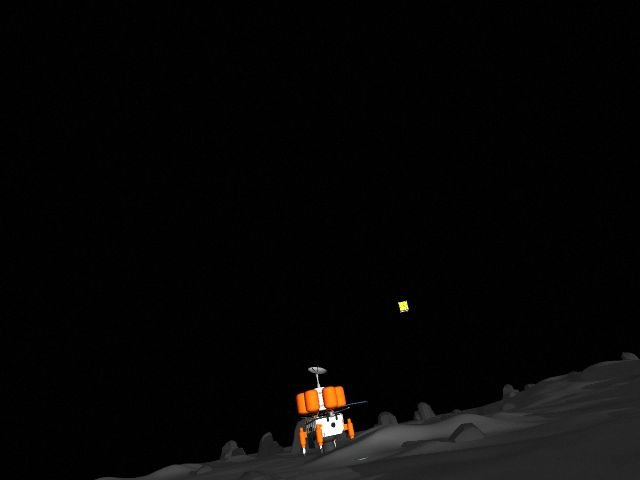homebase: (272, 364, 371, 460)
